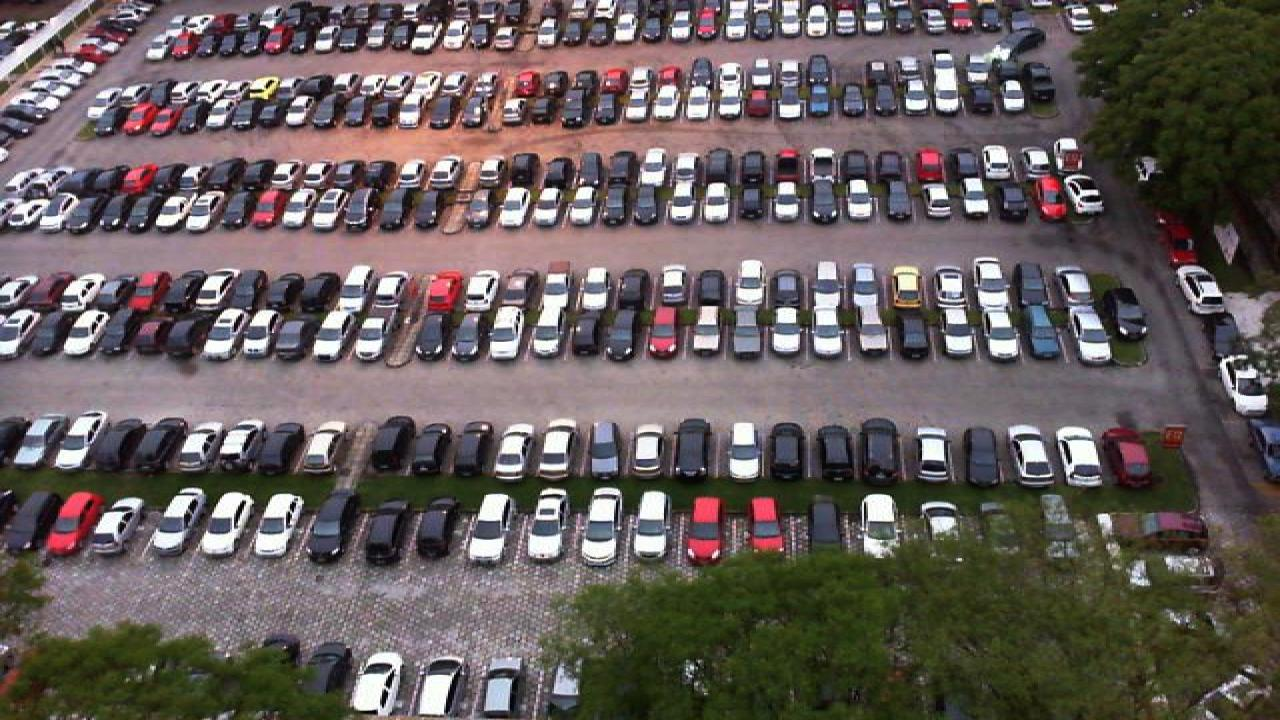Car: (40, 489, 104, 557), (1216, 352, 1274, 420), (350, 649, 406, 718), (628, 486, 676, 564), (154, 486, 208, 555), (202, 488, 256, 557), (578, 488, 624, 566), (1100, 426, 1156, 489), (468, 490, 516, 562), (254, 489, 304, 558), (362, 495, 412, 564), (94, 495, 148, 557), (1004, 424, 1058, 486), (52, 410, 106, 472), (312, 490, 358, 562), (1056, 424, 1106, 488), (130, 417, 188, 472), (414, 656, 464, 719), (526, 486, 568, 560), (472, 657, 522, 719), (1174, 261, 1230, 316), (800, 498, 846, 562), (10, 416, 64, 470), (682, 496, 724, 565), (960, 424, 1006, 487), (94, 417, 146, 472), (860, 417, 902, 485), (296, 421, 346, 475), (216, 421, 266, 475), (60, 308, 112, 359), (416, 498, 460, 558), (370, 415, 418, 470), (978, 306, 1026, 361), (1068, 304, 1114, 361), (536, 419, 578, 481), (672, 418, 712, 482), (1022, 307, 1068, 362), (768, 420, 808, 482), (912, 426, 954, 485), (1104, 285, 1148, 341), (814, 423, 854, 484), (856, 491, 898, 549), (488, 424, 532, 479), (938, 306, 982, 361), (750, 494, 788, 557), (626, 423, 668, 480), (196, 308, 242, 360), (260, 421, 304, 475), (974, 256, 1018, 310), (544, 654, 582, 716), (156, 309, 204, 358), (726, 420, 764, 481), (584, 420, 622, 481), (448, 421, 490, 476), (232, 308, 276, 360), (174, 423, 218, 474), (894, 308, 936, 361), (352, 305, 392, 360), (332, 263, 376, 313), (770, 307, 810, 361), (272, 308, 312, 362), (688, 308, 728, 360), (310, 309, 350, 361), (54, 271, 102, 314), (646, 308, 686, 359), (572, 263, 612, 314), (1052, 261, 1096, 307), (192, 266, 234, 314), (812, 307, 850, 360), (488, 310, 528, 360), (448, 312, 488, 362), (410, 312, 450, 362), (0, 310, 40, 360), (730, 307, 768, 359), (528, 310, 566, 362), (1032, 175, 1074, 222), (4, 194, 52, 235), (224, 269, 268, 313), (122, 310, 164, 356), (1060, 173, 1106, 215), (608, 312, 648, 360), (856, 307, 892, 360), (86, 270, 130, 313), (456, 271, 498, 316), (16, 273, 62, 314), (932, 263, 974, 307), (158, 271, 200, 315), (126, 269, 168, 313), (78, 192, 122, 234), (380, 268, 420, 314), (570, 312, 608, 360), (954, 176, 992, 224), (210, 190, 252, 233), (44, 194, 88, 235), (410, 422, 446, 472), (1010, 262, 1050, 307), (422, 269, 462, 314), (810, 261, 848, 308), (534, 265, 570, 314), (178, 191, 220, 233), (888, 264, 926, 310), (732, 259, 768, 307), (614, 266, 650, 314), (804, 178, 840, 226), (920, 499, 962, 539), (114, 191, 154, 233), (262, 270, 300, 314), (312, 188, 350, 232), (496, 266, 532, 312), (994, 176, 1030, 222), (664, 180, 700, 226), (920, 180, 956, 225), (698, 179, 734, 224), (278, 189, 318, 229), (302, 272, 340, 314), (148, 191, 186, 233), (690, 266, 726, 310), (652, 266, 688, 310), (876, 178, 912, 222), (852, 262, 886, 308), (596, 181, 630, 227), (404, 189, 440, 232), (772, 179, 806, 224), (462, 188, 496, 233), (344, 190, 380, 232), (248, 189, 284, 231), (840, 178, 874, 222), (530, 184, 564, 228), (496, 185, 530, 229), (768, 268, 804, 309), (630, 180, 662, 226), (564, 181, 596, 227), (374, 190, 408, 233), (738, 179, 770, 224), (54, 164, 94, 199), (120, 161, 158, 196), (88, 163, 124, 198), (702, 148, 736, 185), (506, 152, 540, 189), (982, 142, 1016, 178), (574, 151, 606, 189), (430, 156, 462, 194), (214, 156, 246, 194), (24, 167, 62, 199), (640, 146, 670, 186), (1018, 140, 1052, 174), (946, 147, 980, 181), (182, 160, 216, 194), (152, 160, 186, 194), (914, 146, 946, 182), (606, 151, 638, 187), (396, 158, 428, 194), (364, 158, 396, 194), (1052, 136, 1084, 171), (468, 155, 500, 190), (840, 150, 872, 184), (540, 156, 572, 190), (244, 158, 276, 192), (808, 148, 838, 184), (772, 148, 802, 184), (738, 148, 768, 184), (672, 150, 702, 186), (274, 156, 304, 192), (334, 158, 364, 192), (304, 158, 334, 192), (874, 150, 904, 181), (0, 166, 30, 197)
